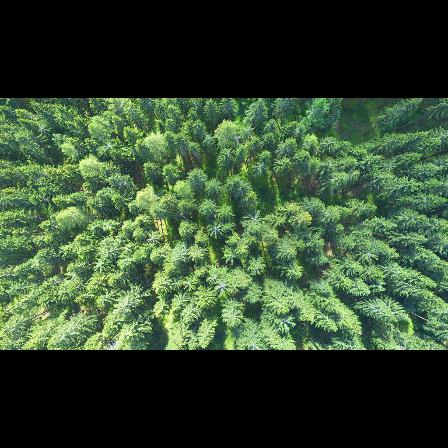Sick: (245, 207, 267, 229), (356, 247, 381, 266), (213, 279, 232, 300), (205, 220, 226, 239), (98, 139, 120, 156), (250, 159, 269, 178), (203, 269, 222, 287), (180, 276, 197, 293), (145, 231, 162, 248), (199, 130, 216, 147), (91, 259, 110, 274), (238, 124, 256, 139), (35, 122, 53, 136)
